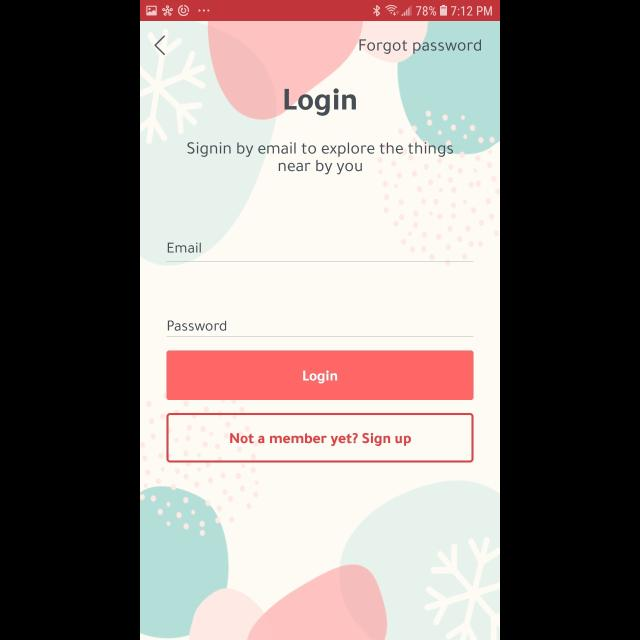backgroundimage: (140, 22, 500, 640)
icon: (154, 36, 166, 56)
input: (166, 242, 474, 262), (166, 320, 474, 338)
text: (187, 142, 453, 174), (284, 89, 356, 117), (359, 40, 481, 54), (168, 321, 226, 332), (168, 242, 202, 254)
textbutton: (166, 351, 474, 401), (166, 413, 474, 463)
uppertaskbar: (140, 1, 500, 22)
